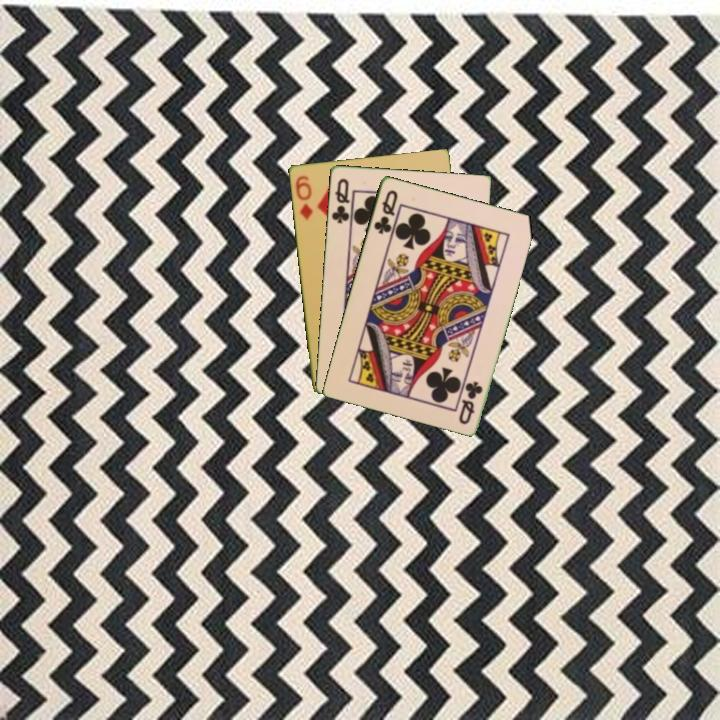6d: (292, 172, 315, 223)
Qc: (370, 186, 400, 237), (455, 377, 485, 427), (328, 175, 352, 226)
